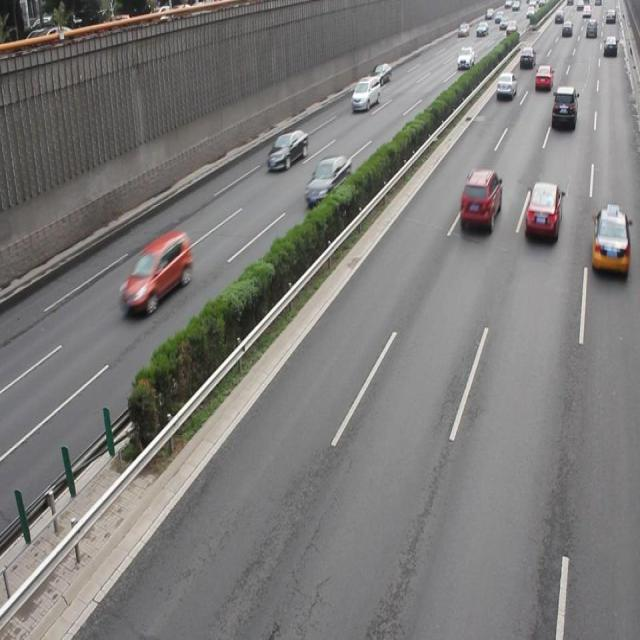car: (120, 228, 192, 314), (458, 168, 502, 234), (590, 207, 628, 275), (304, 153, 351, 206), (523, 179, 561, 243), (267, 128, 308, 174), (550, 84, 576, 132)
